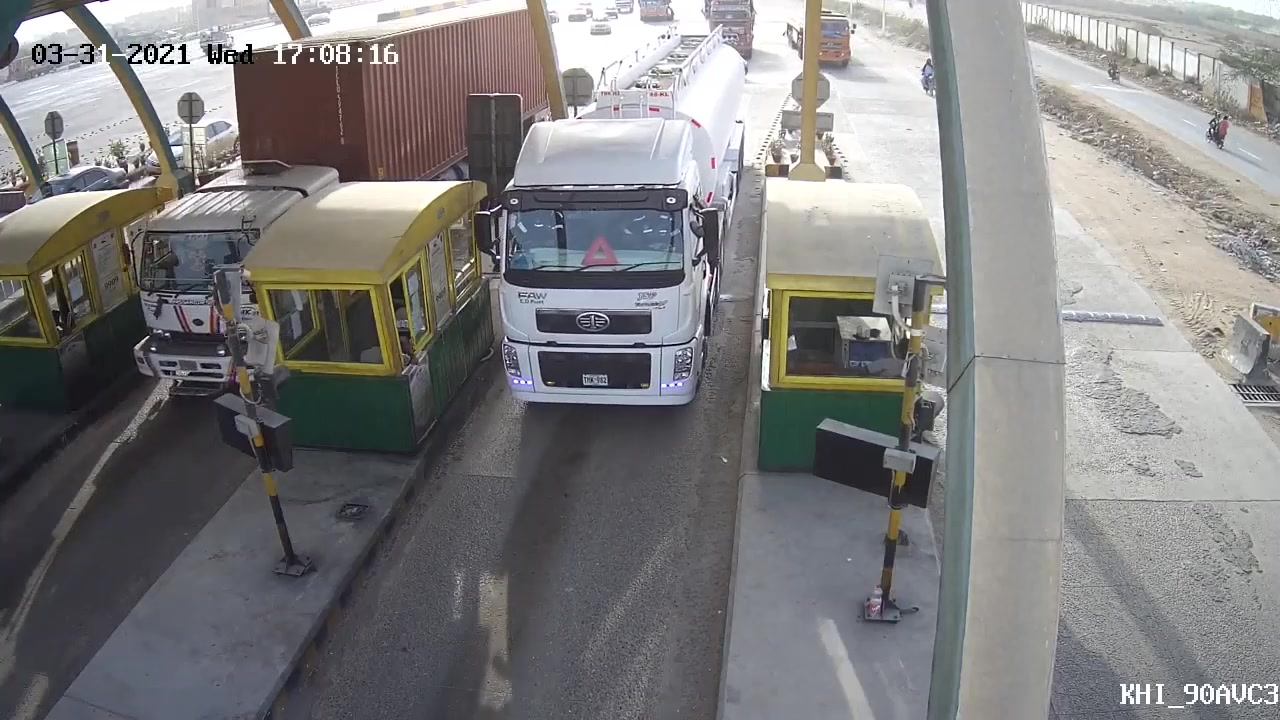F6: (481, 31, 756, 417)
